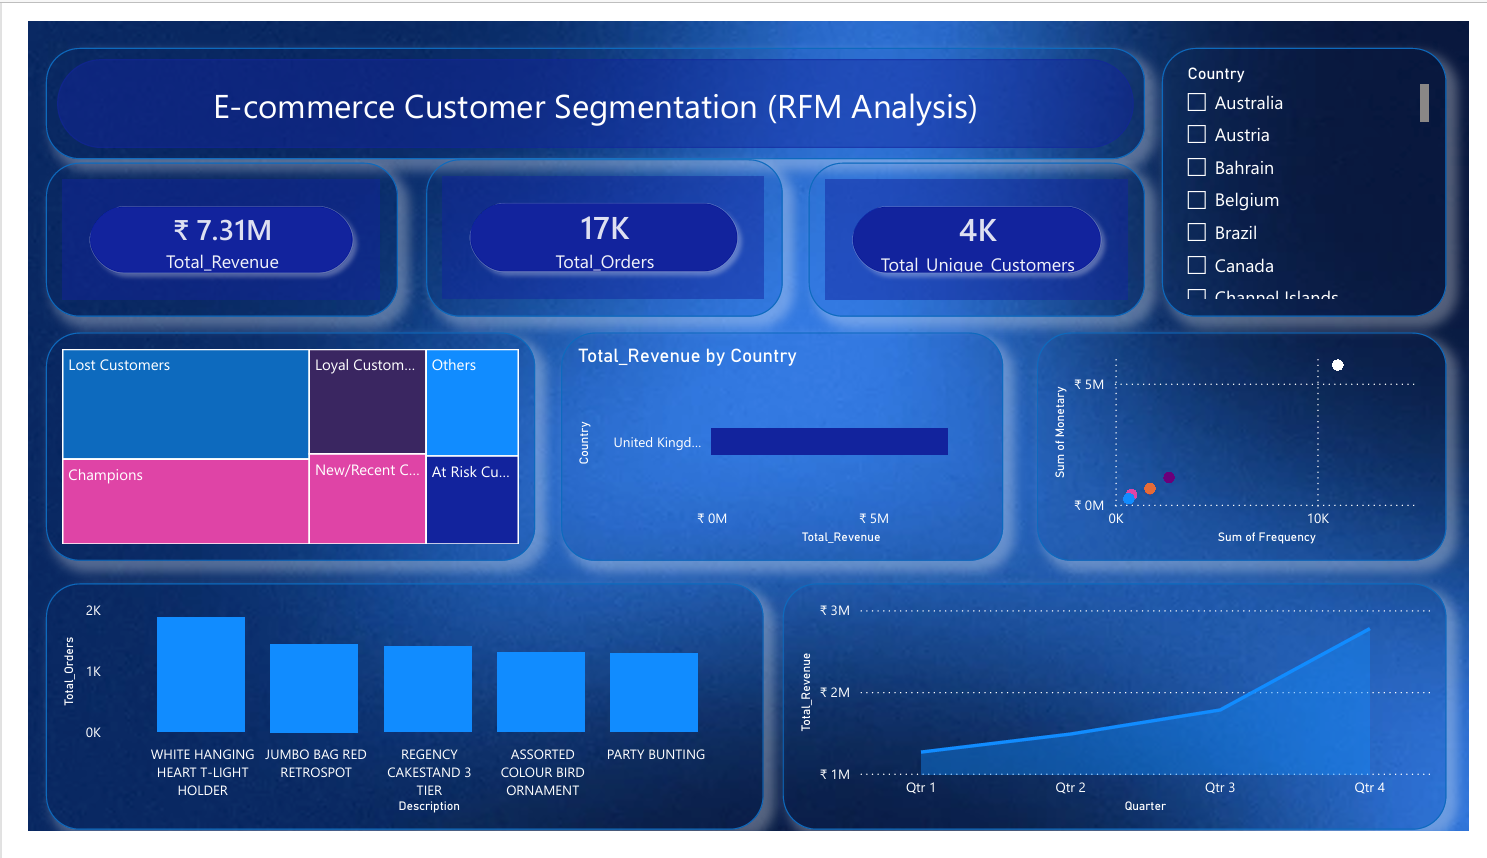

The dashboard page shown, as its layout file describes it:
{"tool":"powerbi","page":{"name":"Page 1","canvas":[1280,720],"ordinal":0},"visuals":[{"type":"shape","box":[15.1,23.3,977,98.8],"z":0},{"type":"cardVisual","fields":{"Data":["All_Measures.Total_Revenue"]},"box":[15.1,124.9,312.9,137.2],"z":1000},{"type":"cardVisual","fields":{"Data":["All_Measures.Total_Unique_Customers"]},"box":[693,124.9,299.1,137.2],"z":2000},{"type":"cardVisual","fields":{"Data":["All_Measures.Total_Orders"]},"box":[352.7,122.1,317,140],"z":3000},{"type":"treemap","fields":{"Group":["Customer_RFM.Customer_Segment"],"Values":["All_Measures.Total_Unique_Customers"]},"box":[15.1,275.8,435,203.1],"z":4000},{"type":"clusteredBarChart","fields":{"Category":["OnlineRetail.Country"],"Y":["All_Measures.Total_Revenue"]},"box":[473.4,275.8,392.5,203.1],"z":5000},{"type":"slicer","fields":{"Values":["OnlineRetail.Country"]},"box":[1007.2,23.3,252.5,238.8],"z":6000},{"type":"scatterChart","fields":{"X":["Customer_RFM.Frequency"],"Y":["Customer_RFM.Monetary"],"Category":["OnlineRetail.CustomerID"],"Series":["Customer_RFM.Customer_Segment"]},"box":[896.1,275.8,363.6,203.1],"z":7000},{"type":"clusteredColumnChart","fields":{"Category":["OnlineRetail.Description"],"Y":["All_Measures.Total_Orders"]},"box":[15.1,499.5,638.1,218.2],"z":8000},{"type":"areaChart","fields":{"Y":["All_Measures.Total_Revenue"],"Category":["OnlineRetail.InvoiceDate.Variation.Date Hierarchy.Quarter"]},"box":[669.6,499.5,590.1,218.2],"z":9000}]}

Visuals, with their boxes in screenshot pixels (x1, y1, x2, y2), scaled from the page's 1280x720 canvas onto the 1487x858 screenshot:
shape: 18:28:1153:146
cardVisual - All_Measures.Total_Revenue: 18:149:381:312
cardVisual - All_Measures.Total_Unique_Customers: 805:149:1153:312
cardVisual - All_Measures.Total_Orders: 410:146:778:312
treemap - Customer_RFM.Customer_Segment x All_Measures.Total_Unique_Customers: 18:329:523:571
clusteredBarChart - OnlineRetail.Country x All_Measures.Total_Revenue: 550:329:1006:571
slicer - OnlineRetail.Country: 1170:28:1463:312
scatterChart - Customer_RFM.Frequency x Customer_RFM.Monetary: 1041:329:1463:571
clusteredColumnChart - OnlineRetail.Description x All_Measures.Total_Orders: 18:595:759:855
areaChart - All_Measures.Total_Revenue x OnlineRetail.InvoiceDate.Variation.Date Hierarchy.Quarter: 778:595:1463:855
